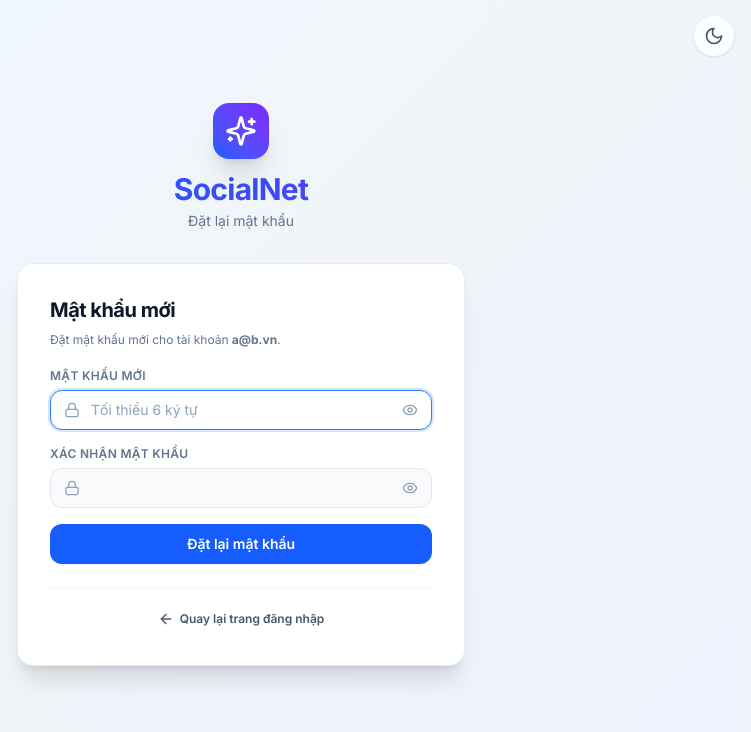
Scenario: Lỗi KHÔNG phải ApiError → câu báo lỗi mặc định › đặt lại mật khẩu
Type "matkhaumoi" into the password field labelled "Mật khẩu mới".
click(241, 410); type("matkhaumoi")  # box [50, 390, 432, 430]
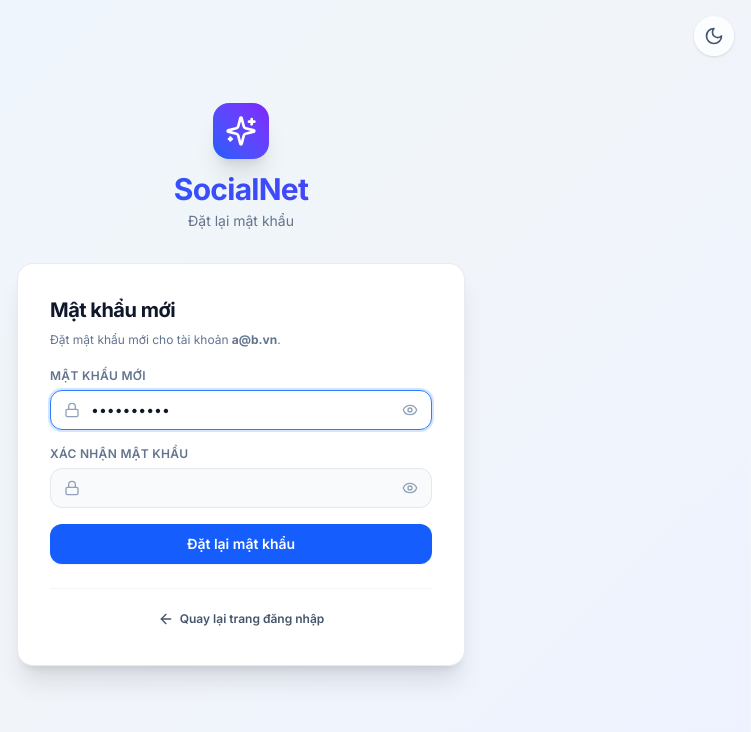
Type "matkhaumoi" into the password field labelled "Xác nhận mật khẩu".
click(241, 488); type("matkhaumoi")  # box [50, 468, 432, 508]
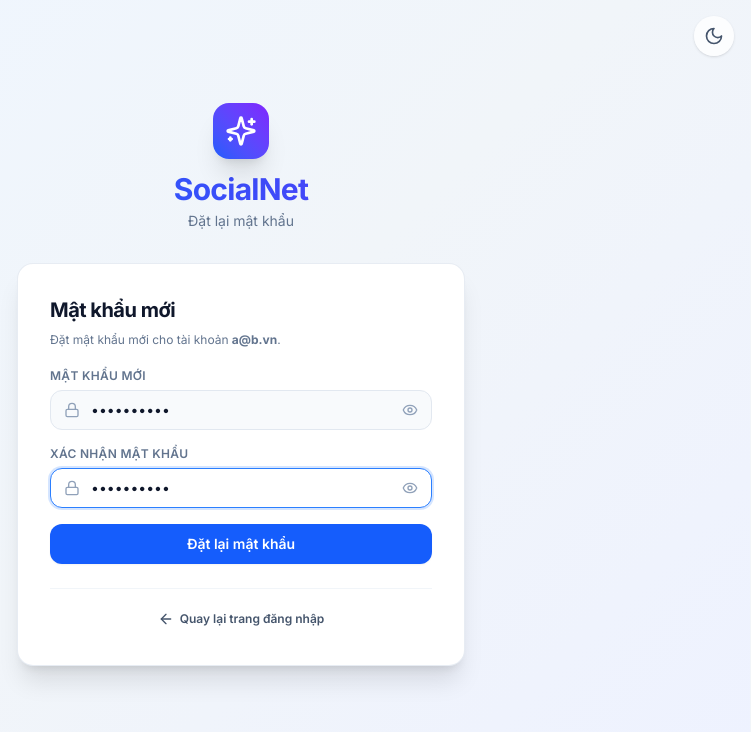
Click the button "Đặt lại mật khẩu".
click(241, 544)  # box [50, 524, 432, 564]
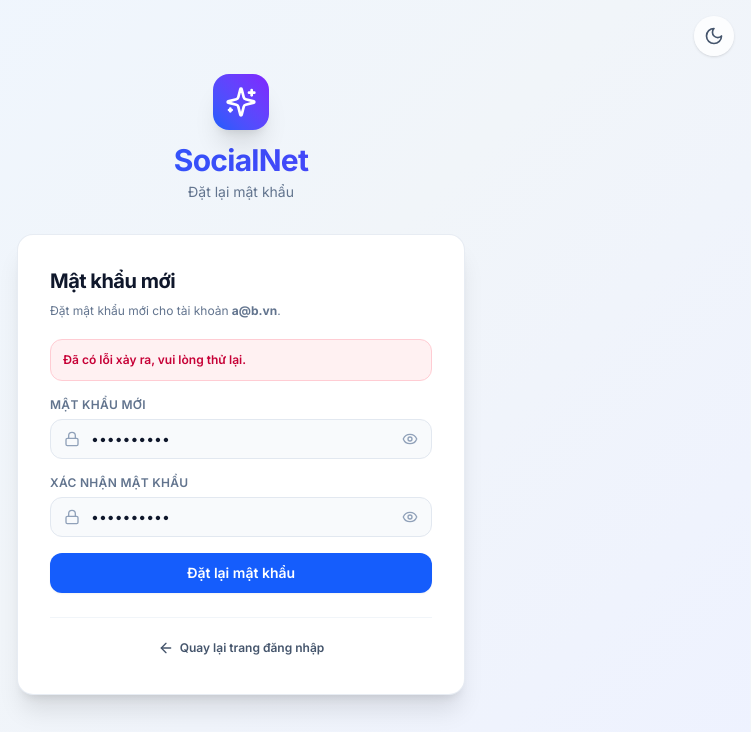
expect the message reads "Đã có lỗi xảy ra, vui lòng thử lại.": met, box [63, 352, 246, 366]
